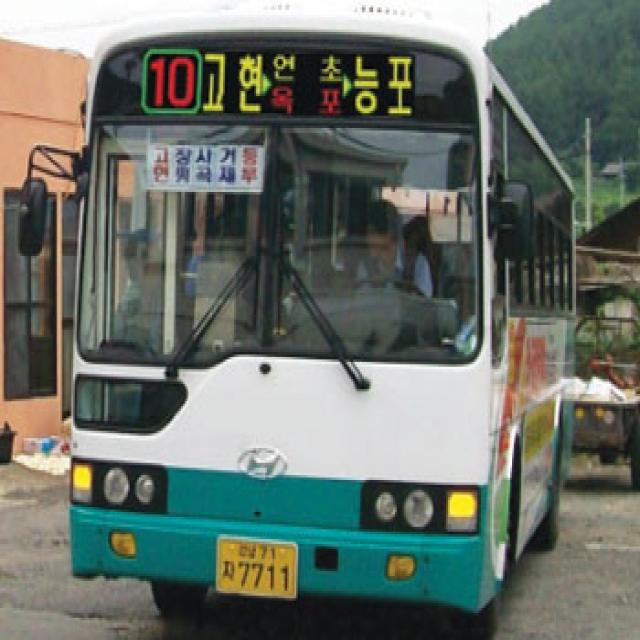bus-number: (150, 55, 196, 108)
